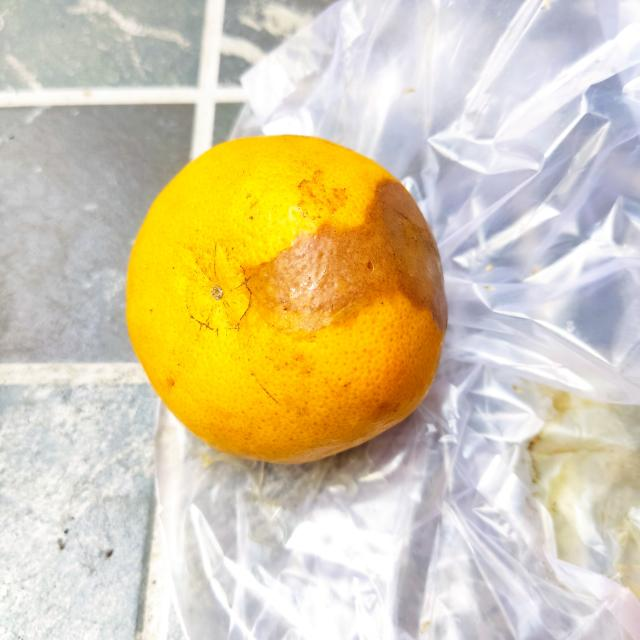orange: (116, 130, 453, 470)
